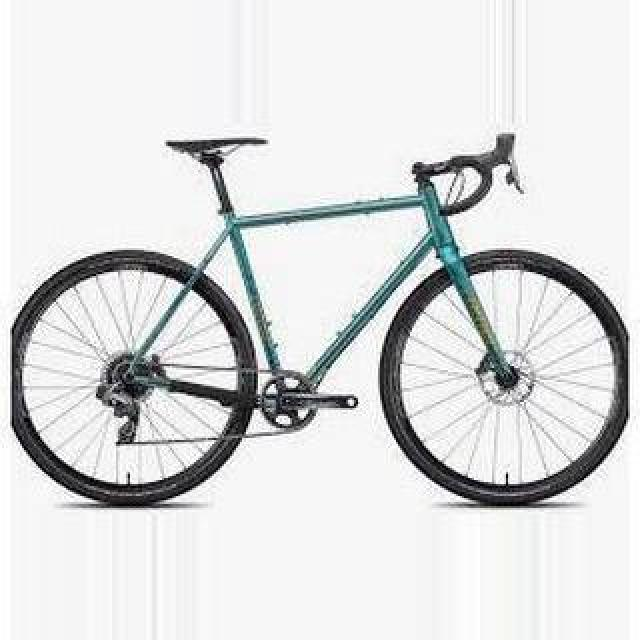Person: (9, 133, 633, 509)
